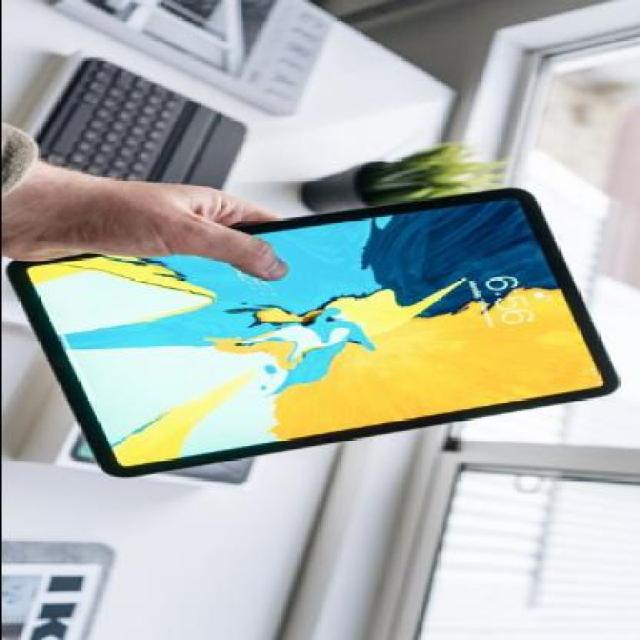tablet: (9, 162, 629, 472)
